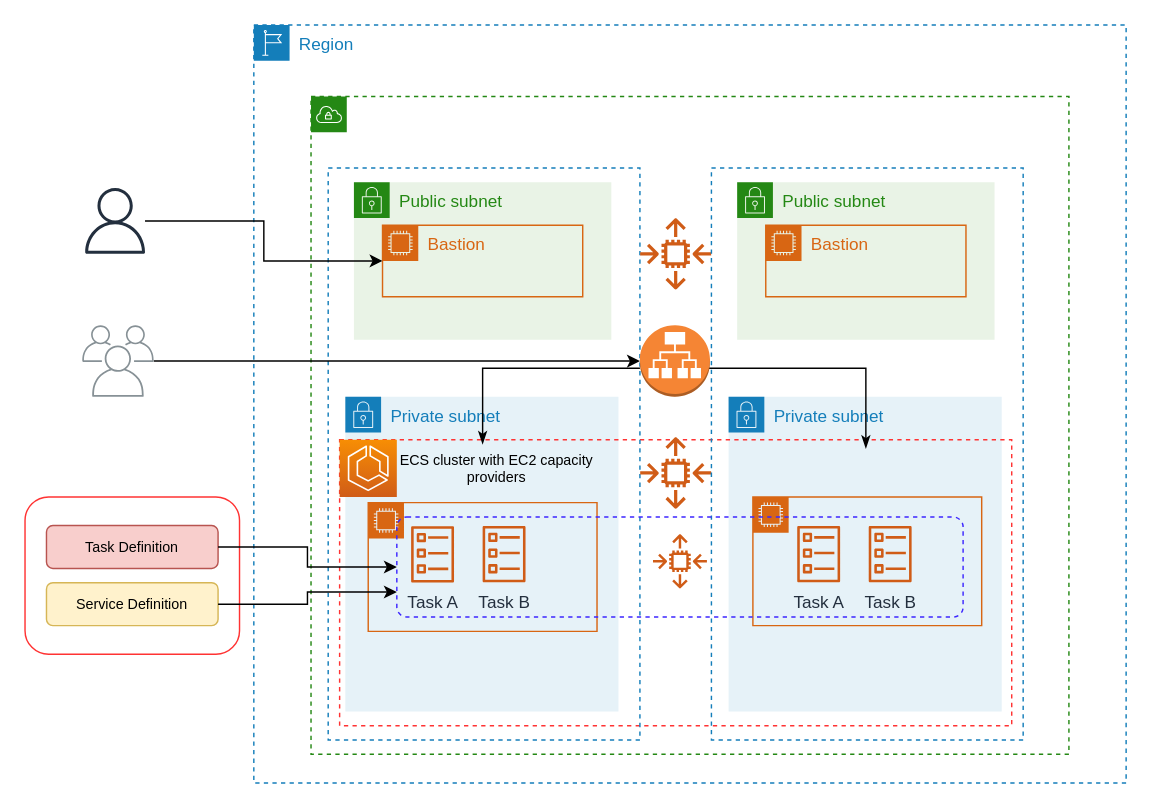
Image size: 1151x808. Some labels were removed from this diagram. Each missing label, with the box of its shape:
Admin / Devs: (82, 187, 147, 253)
Autoscaling ECS Service: (652, 533, 706, 588)
AZ 1: (327, 167, 640, 740)
AZ 2: (710, 167, 1023, 740)
users: (82, 325, 153, 396)
VPC: (310, 95, 1069, 754)
